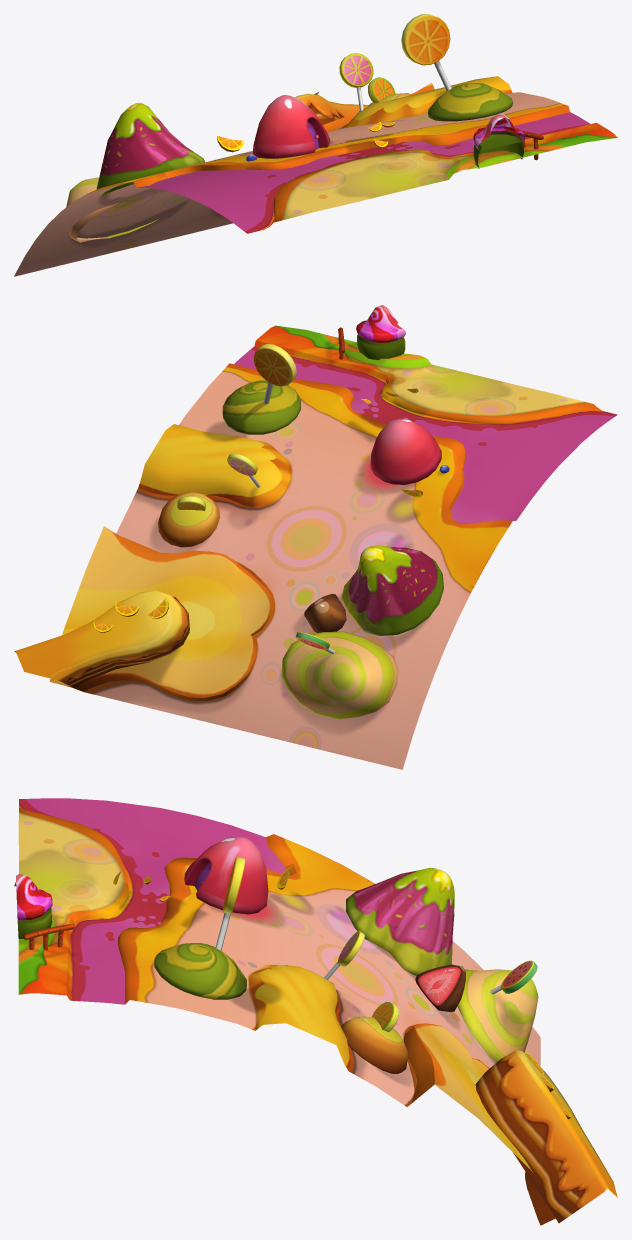
Rendered from seg2.fbx.
3 renders of one model, top to bottom at view 1: azimuth 30°, elevation 25°; view 2: azimuth 150°, elevation 25°; view 3: azimuth 270°, elevation 25°, orthographic. The views are drawn at different scales.
Visible parts, largest first — view 1: seg2; view 2: seg2; view 3: seg2.
Part boxes in pixels (<box>): seg2: <box>14,14,617,276</box>; seg2: <box>14,305,617,769</box>; seg2: <box>14,798,617,1225</box>.
Bounding box in the file's own units: 89.37 × 63.3 × 105.
2 materials, 2 textured.
